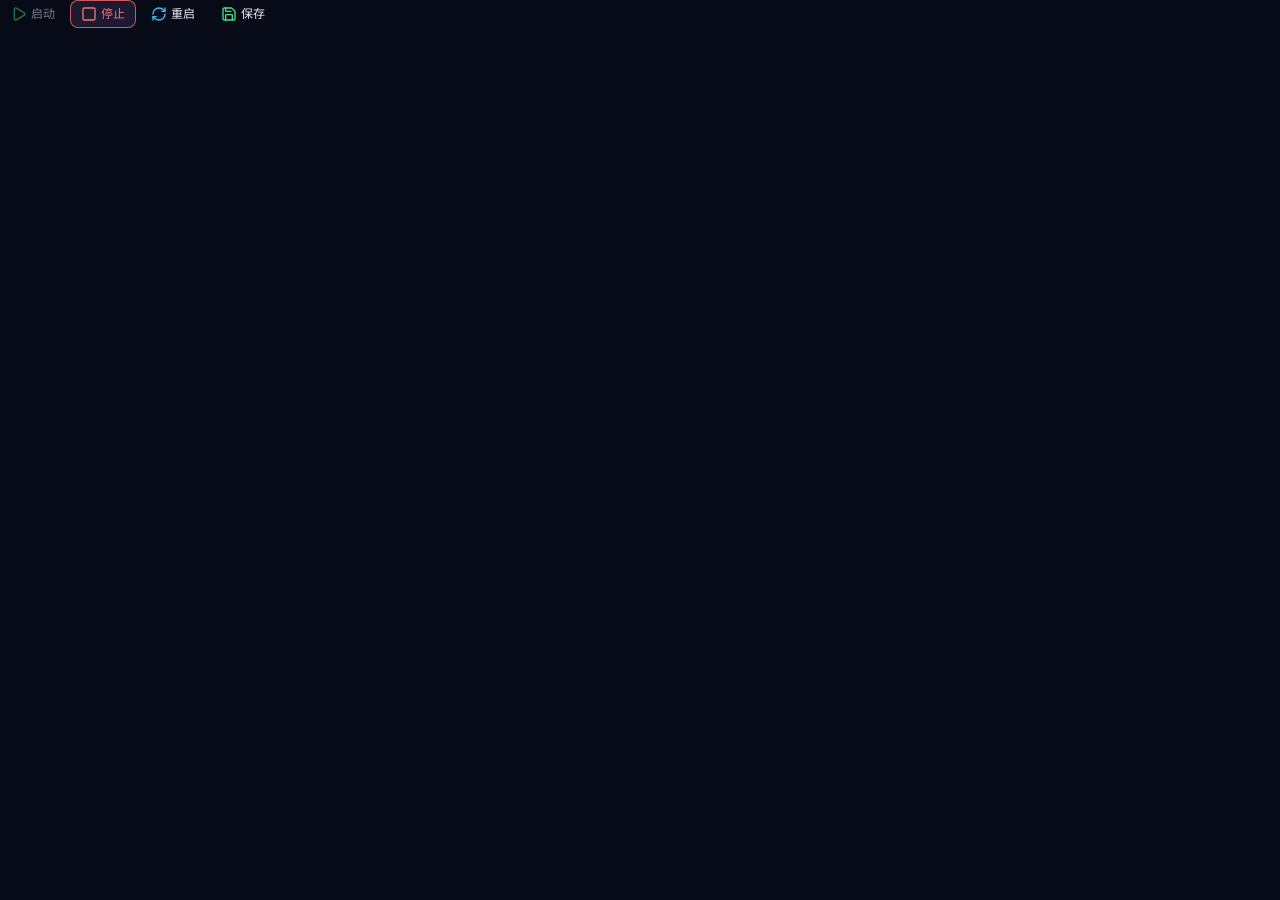
it: InstanceControls 启动确认（EULA 前置条件前移） › 停止仍需确认（高危动作保留二次确认）
Click the button "停止": (103, 14) top-left (70, 0), bottom-right (136, 28)
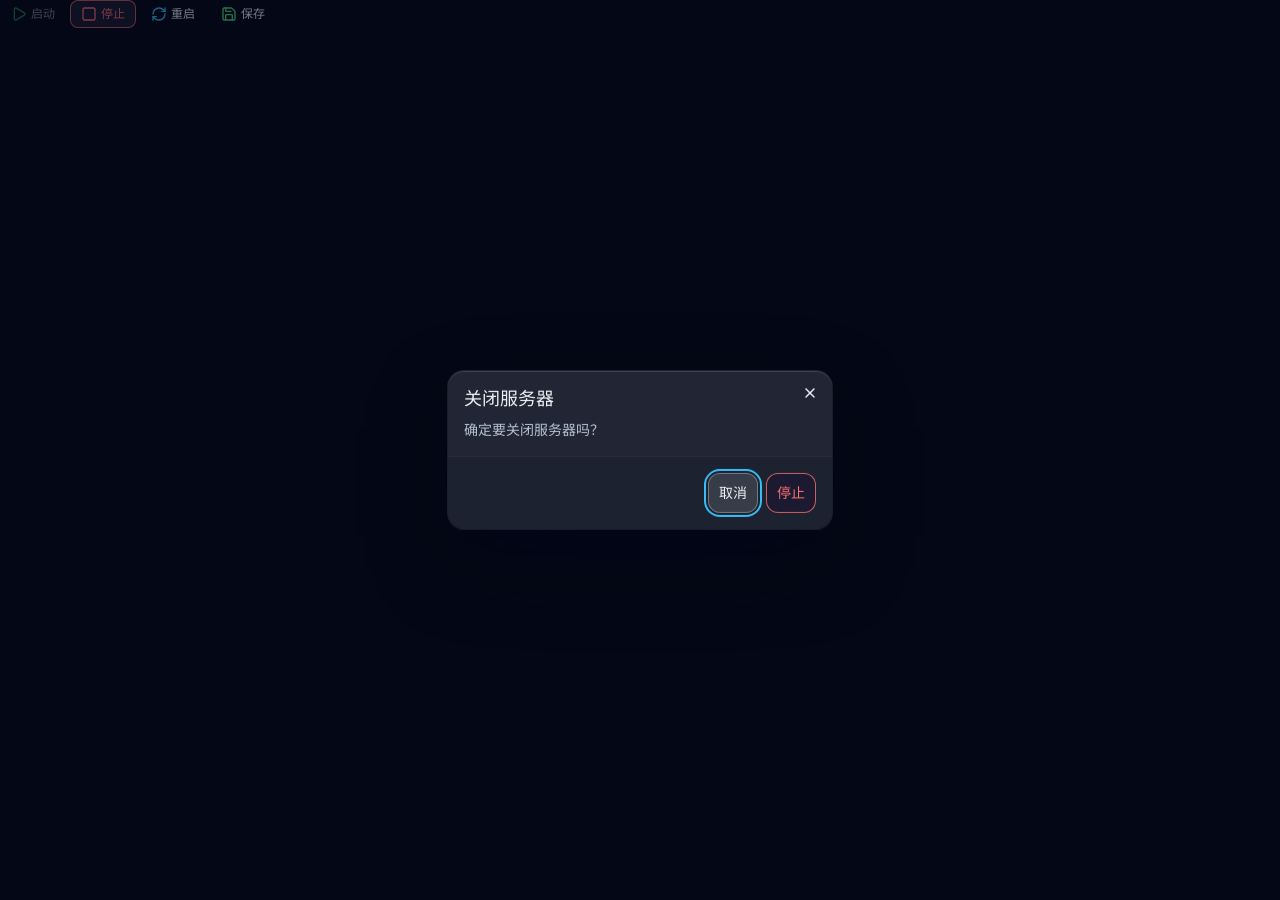
Result: the heading "关闭服务器" is shown at top-left (464, 389), bottom-right (554, 409)
